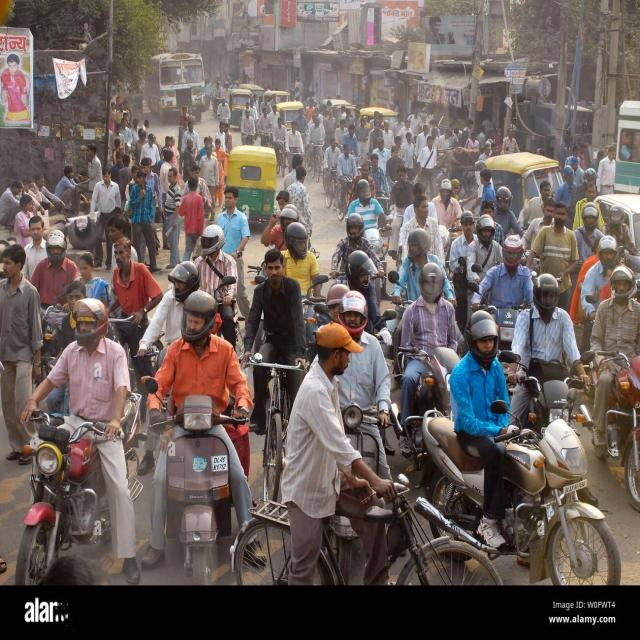autorickshaw: (226, 145, 276, 220)
bicycle: (232, 322, 501, 584), (242, 248, 306, 500)
bus: (145, 52, 206, 122)
motorcycle: (416, 311, 621, 584), (15, 298, 142, 584), (141, 290, 252, 582), (581, 265, 640, 510), (391, 264, 459, 469)
